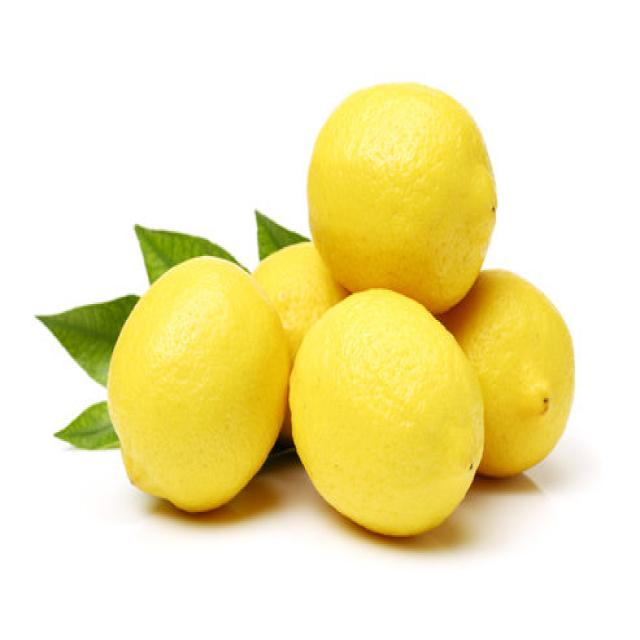Lemon: (288, 284, 484, 537), (105, 252, 291, 512), (305, 80, 497, 313), (439, 267, 575, 478), (249, 240, 348, 444)
